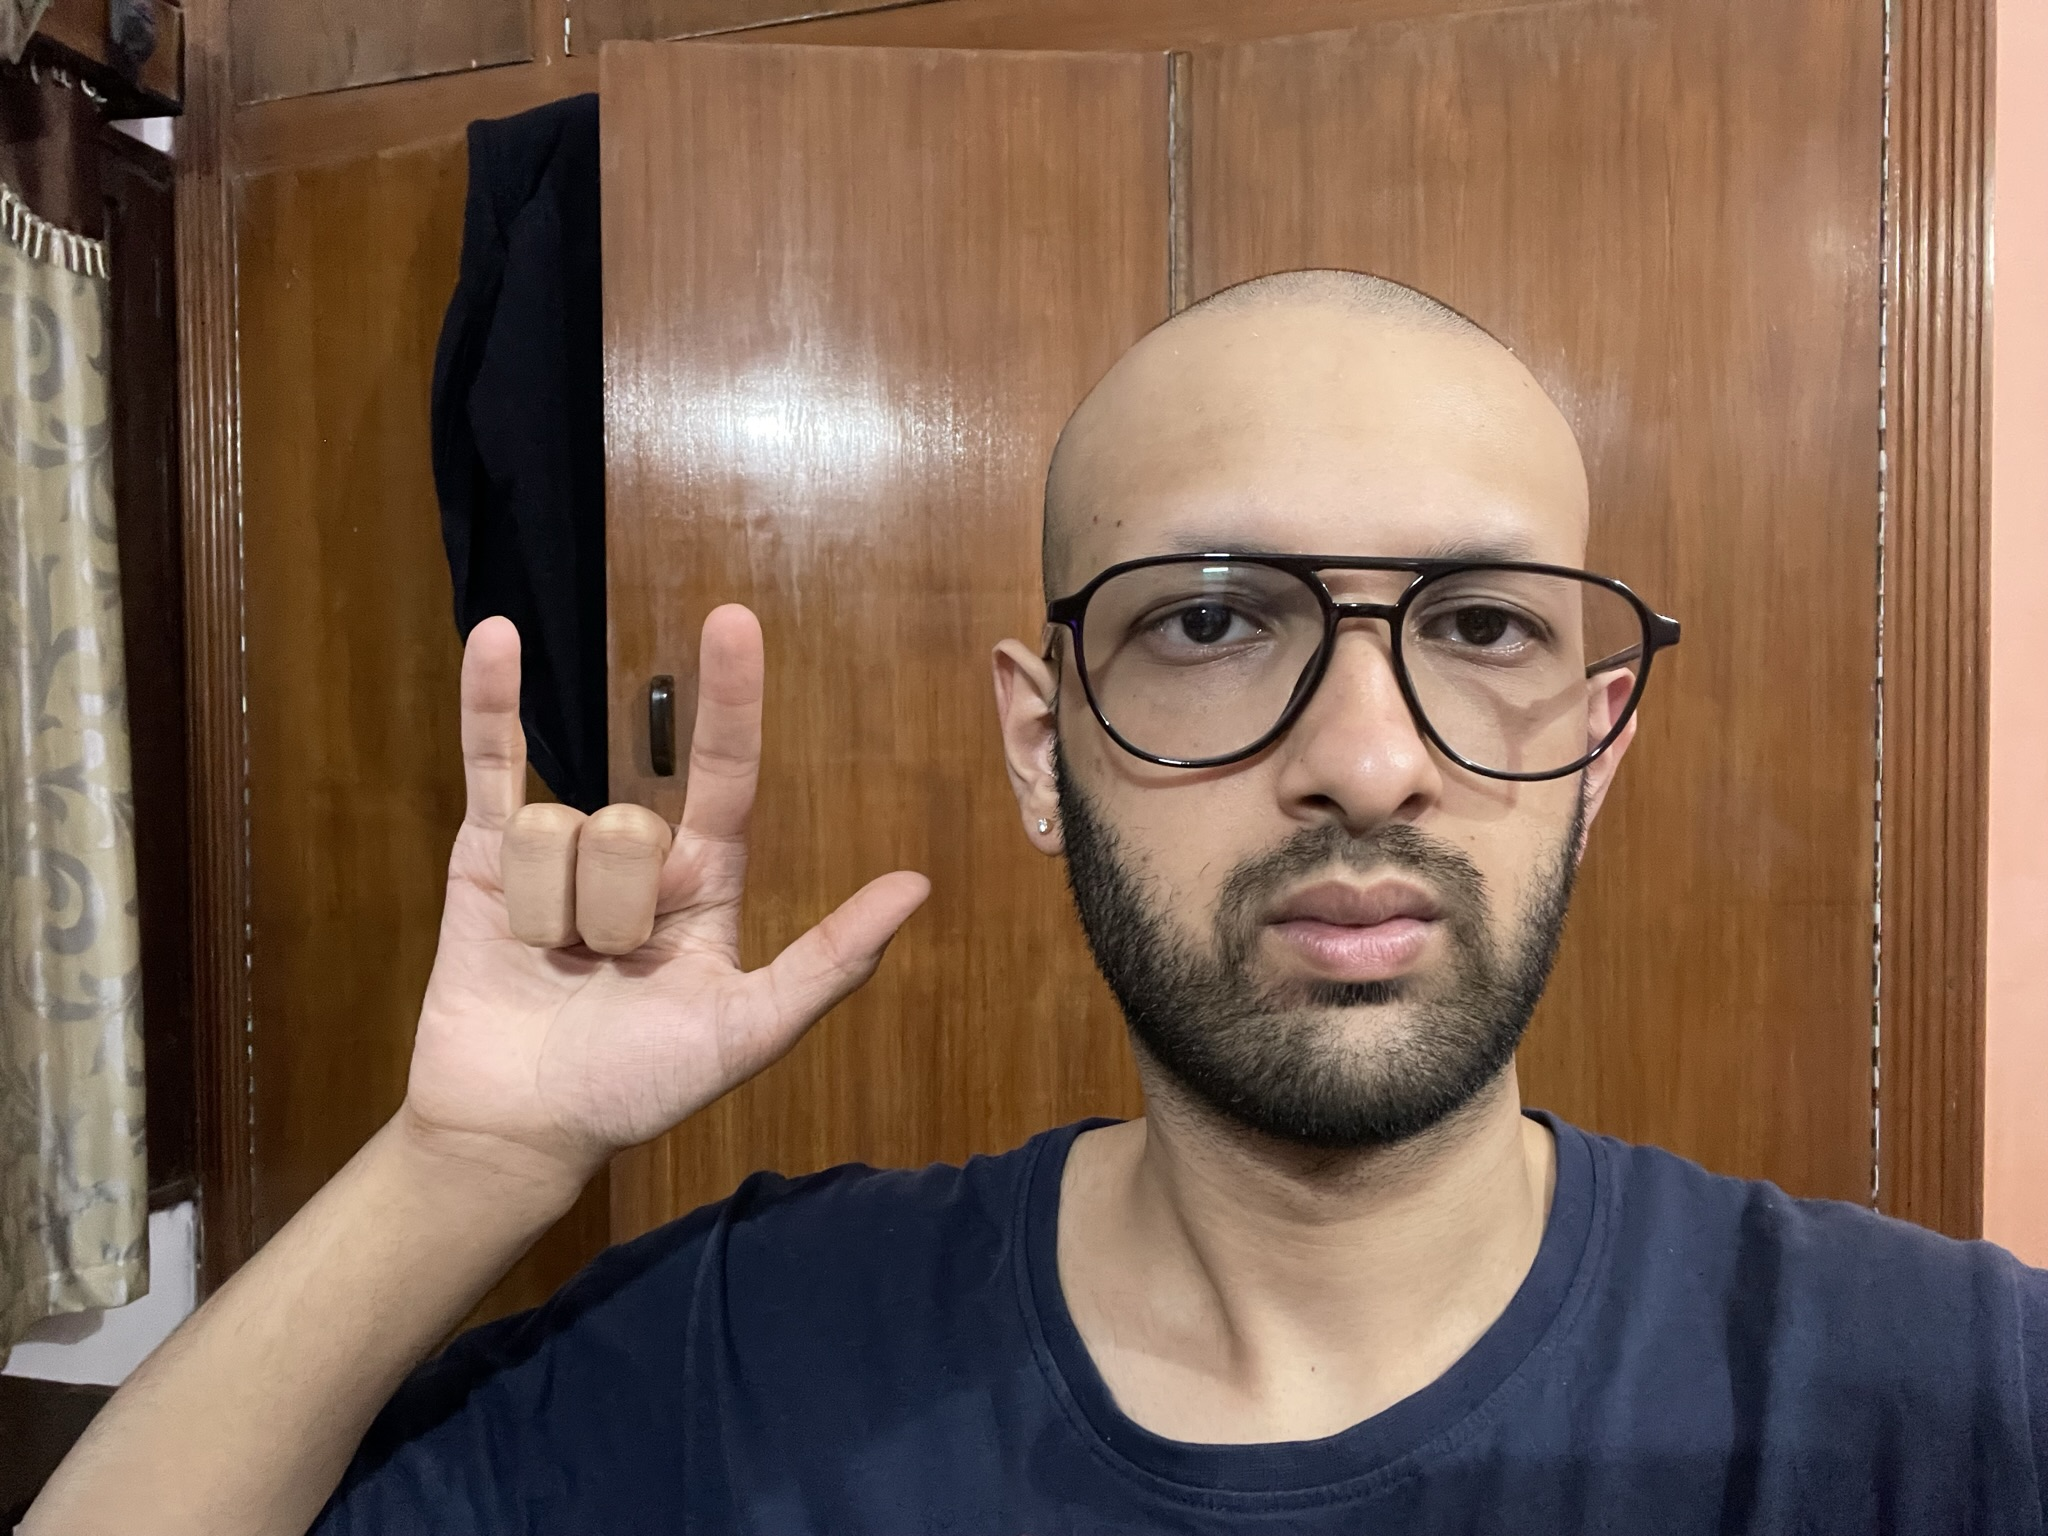I Love You: (402, 595, 937, 1160)
